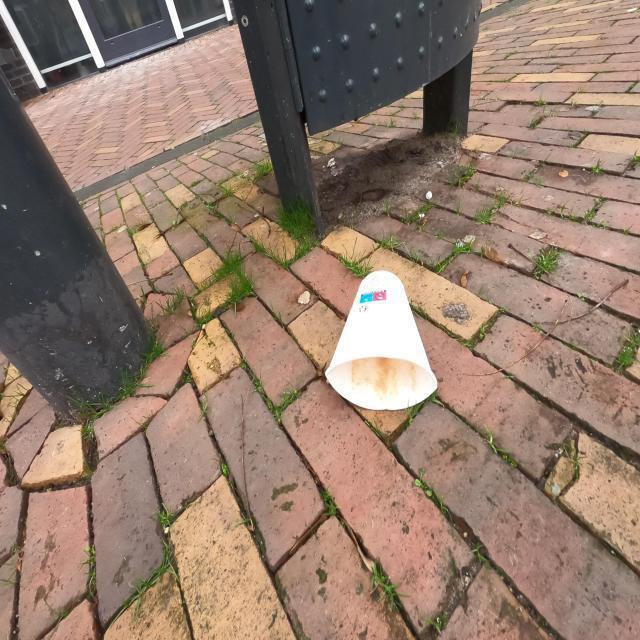Cup: (322, 268, 439, 414)
